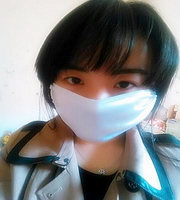face_mask: (51, 31, 148, 141)
